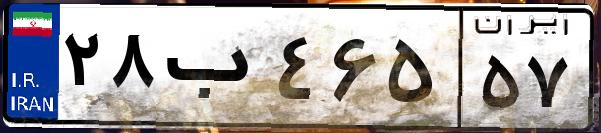2: (57, 26, 110, 100)
4: (270, 28, 330, 110)
5: (385, 28, 445, 110), (475, 38, 525, 113)
6: (330, 28, 385, 110)
7: (525, 38, 570, 115)
8: (110, 28, 158, 98)
ب: (158, 20, 270, 120)
